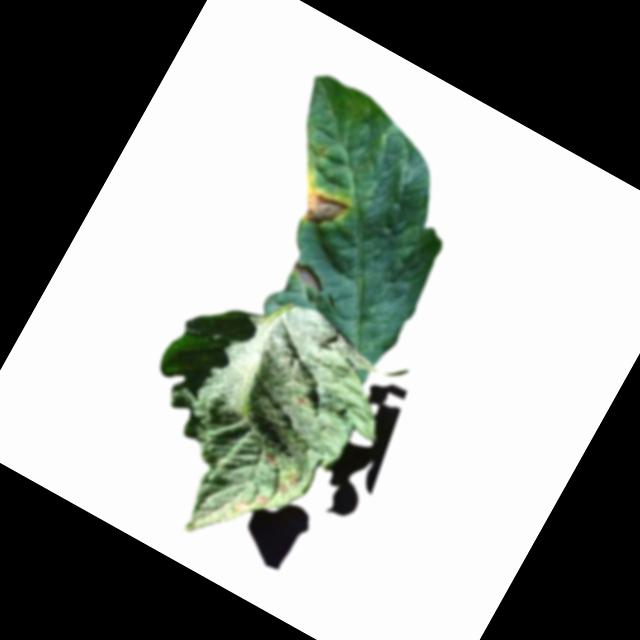Early_blight: (292, 183, 349, 236), (259, 451, 279, 468), (254, 492, 272, 509), (274, 480, 291, 498), (285, 475, 302, 491)
